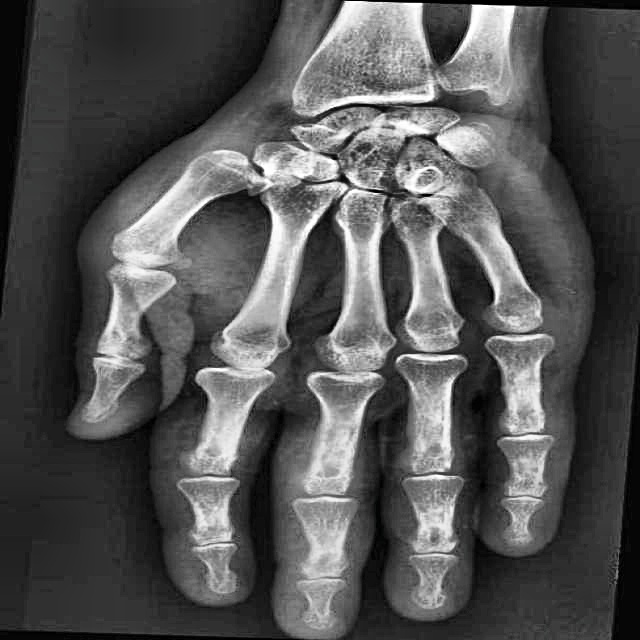Healthy: (102, 107, 591, 567)
